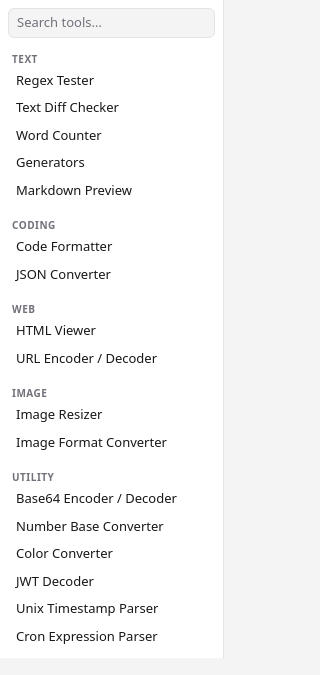
Test case: SideMenu › filters tools by search and hides empty groups
In the field with placeholder "Search tools…": [112, 23] box [8,8,215,38], type "regex"
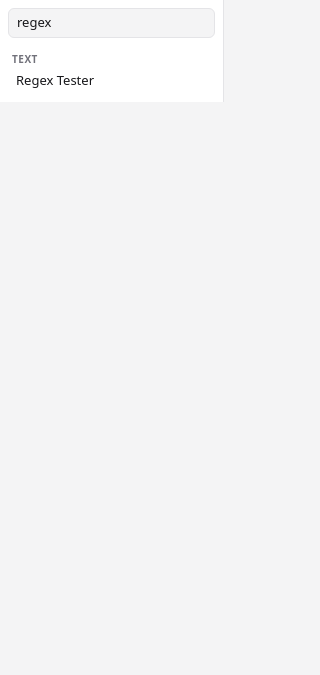
Expected: the button "Regex Tester" is shown, [8,66,215,94]
Now the text "Utility" is gone
